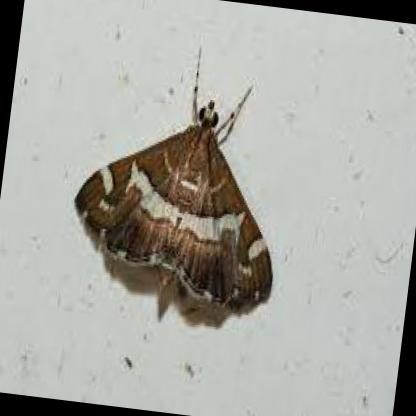Leaf Webber: (74, 96, 275, 309)
